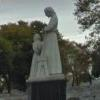Statue: (25, 4, 71, 93)
